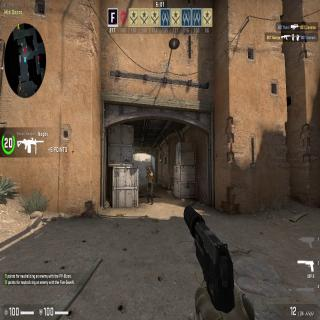CT-Body: (146, 167, 153, 203)
CT-Head: (148, 167, 150, 173)
